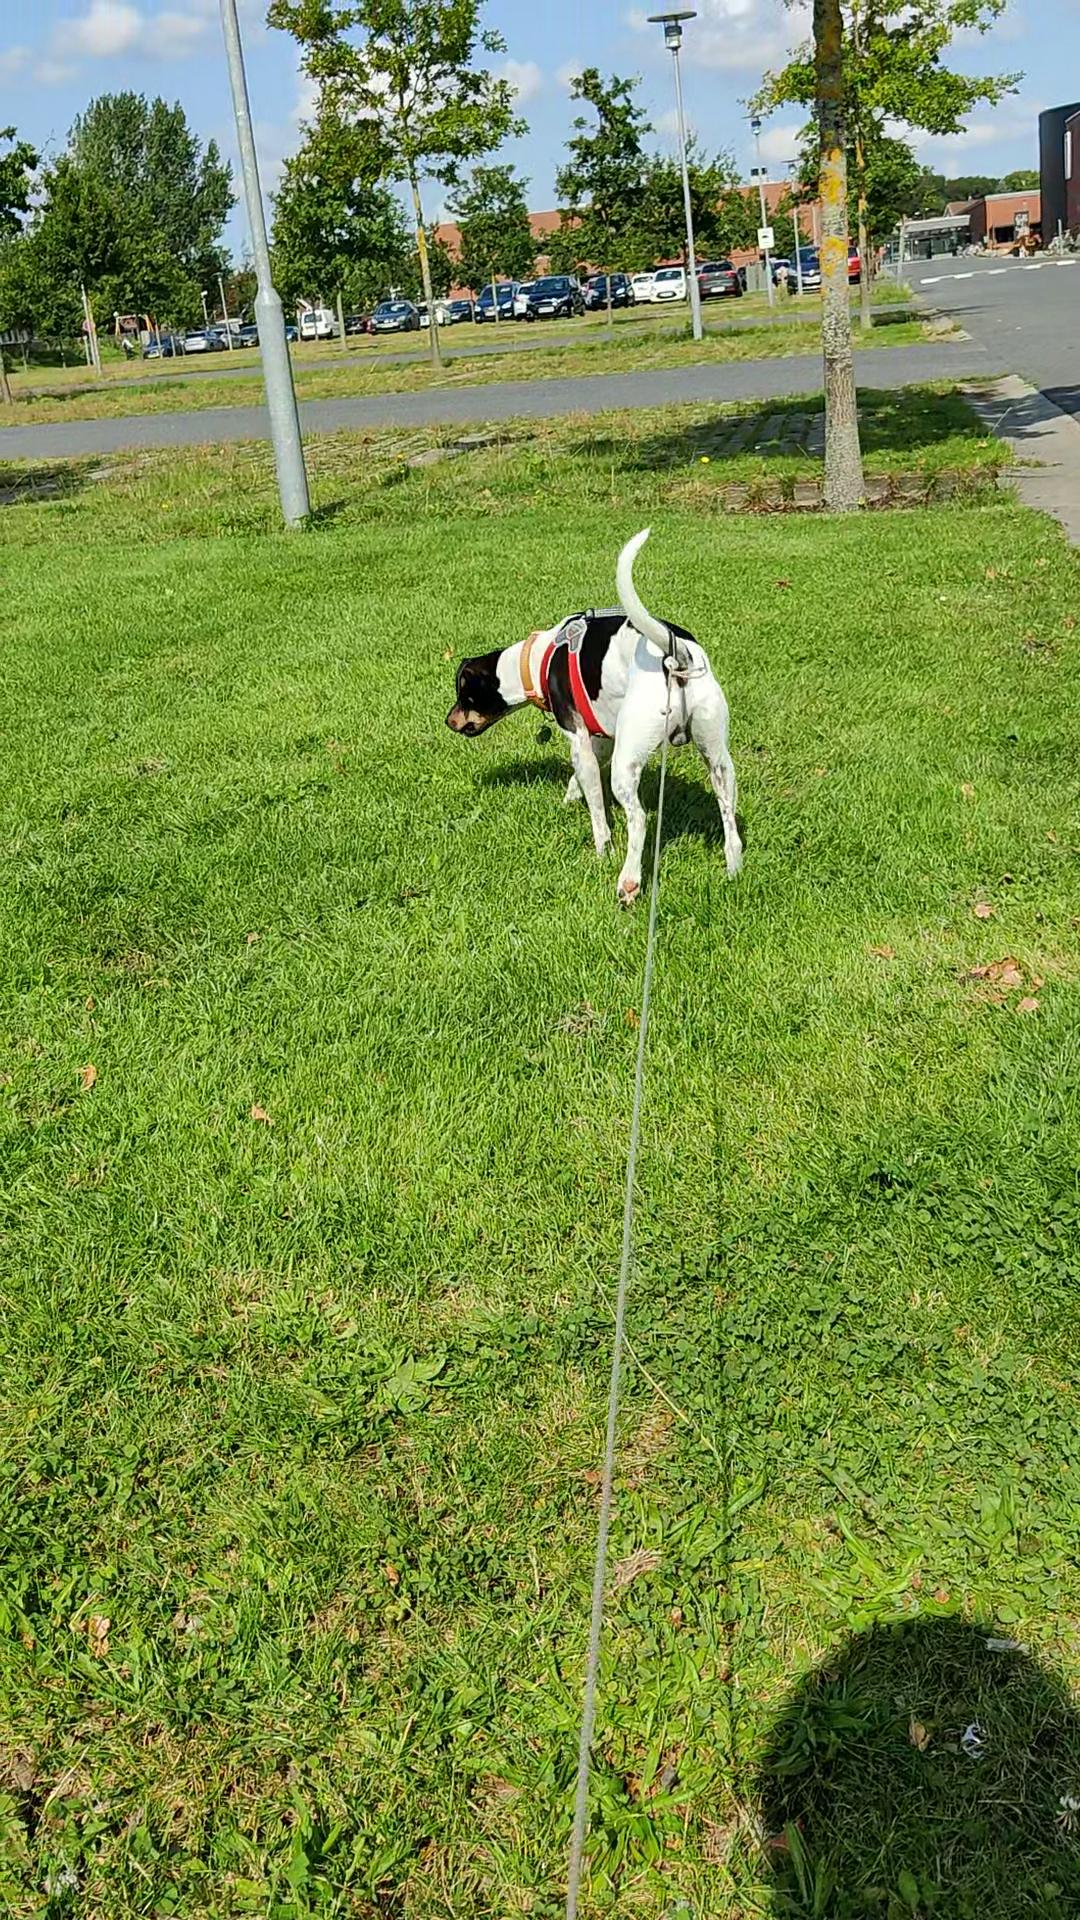Dog: (429, 510, 773, 916)
